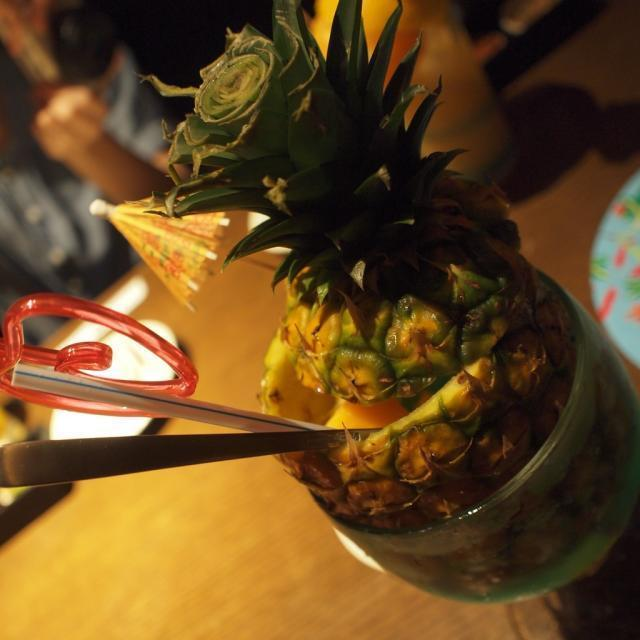Pineapple: (136, 0, 640, 615)
